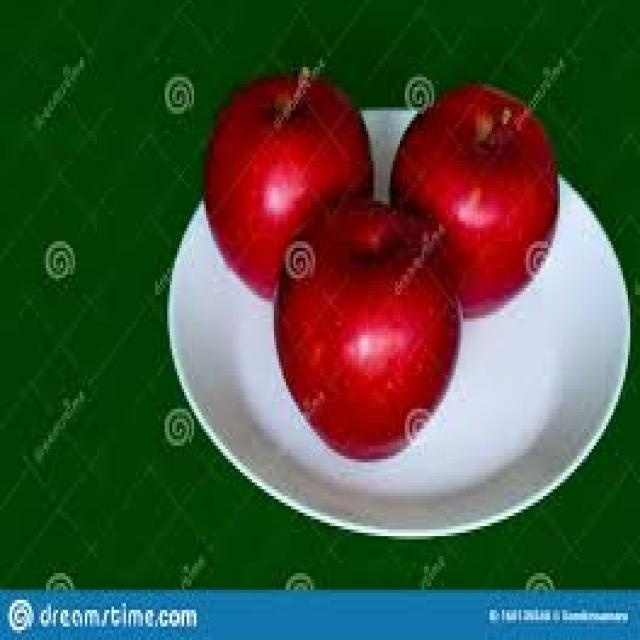agrume: (366, 29, 581, 329), (196, 48, 385, 294), (280, 200, 452, 468)
